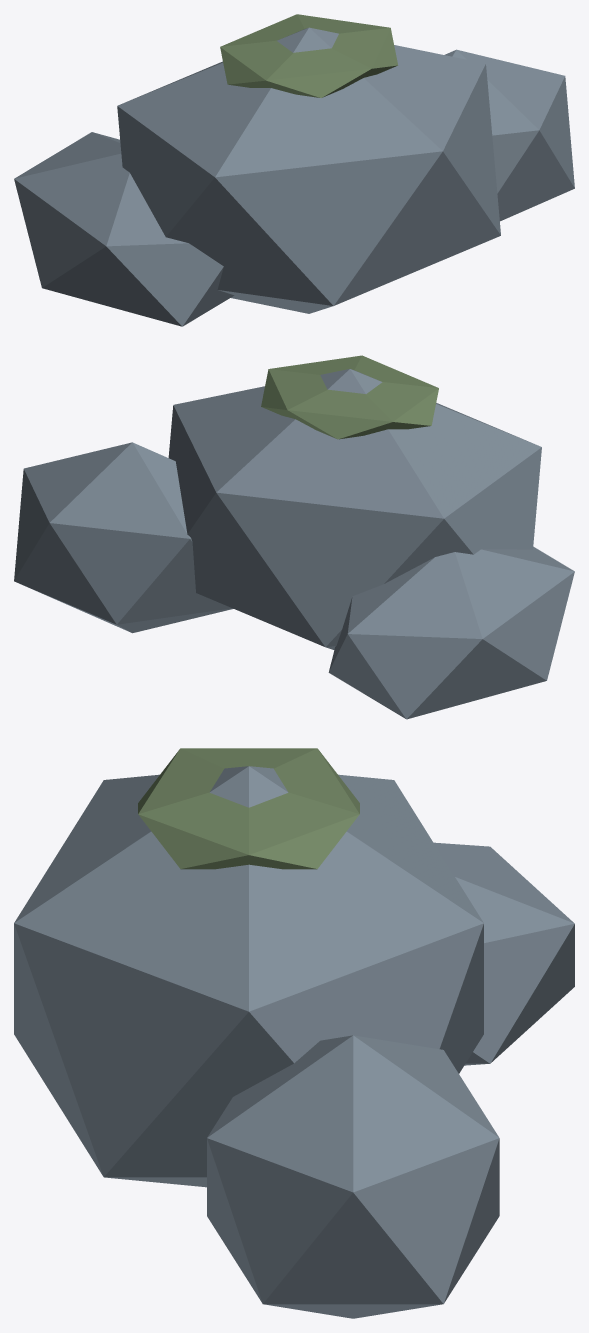
Rendered from L01R_RockCluster.fbx.
The picture shows the model from 3 angles, top to bottom: view 1: azimuth 30°, elevation 25°; view 2: azimuth 150°, elevation 25°; view 3: azimuth 270°, elevation 25°; orthographic projection. The views are drawn at different scales.
Visible parts, largest first — view 1: L01R_RockCluster; view 2: L01R_RockCluster; view 3: L01R_RockCluster.
Part boxes in pixels (x1,y1,x2,y2): L01R_RockCluster: (14,14,574,326); L01R_RockCluster: (14,355,574,719); L01R_RockCluster: (14,748,574,1318).
Size of the model in its own units: 172 by 90 by 108.
